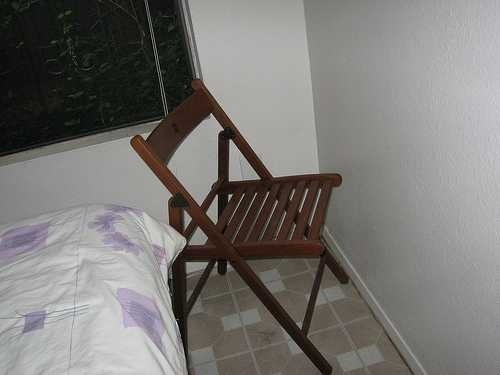obstacle: (131, 80, 347, 373)
